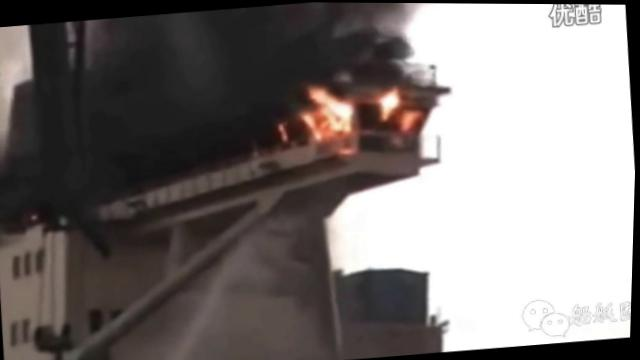fire: (305, 84, 356, 139), (376, 85, 401, 118), (400, 108, 420, 128)
